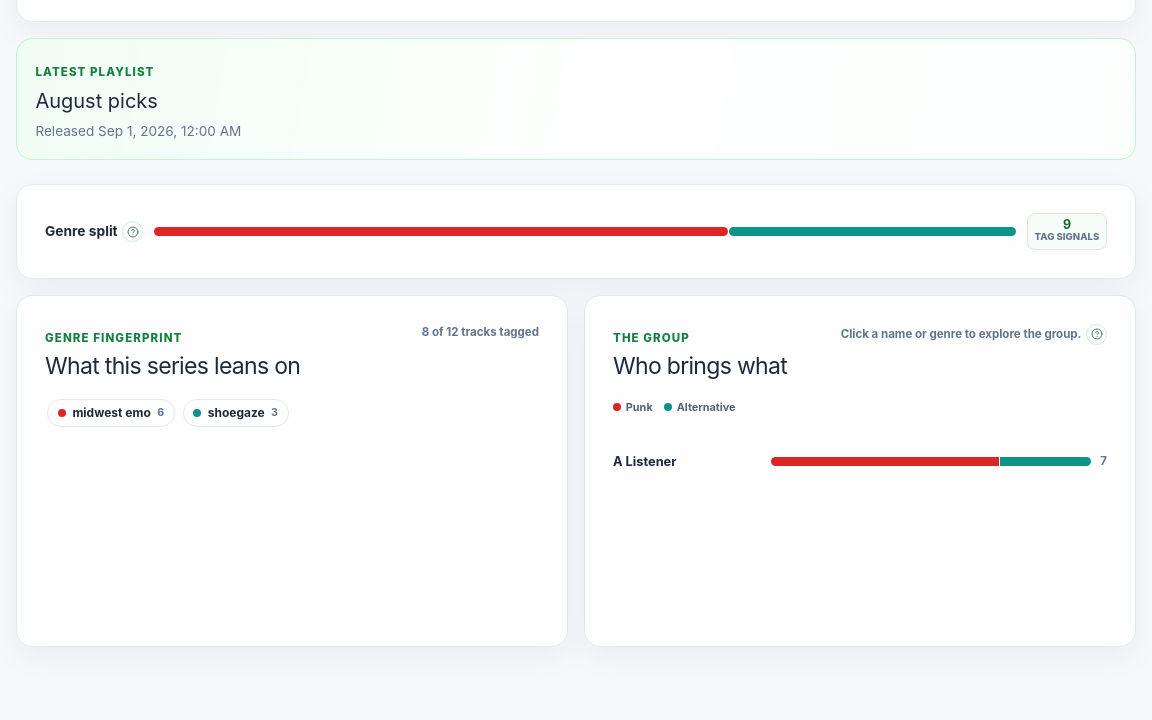
SeriesPage › shows the series fingerprint and each contributor's mix
This screenshot has width=1152, height=720.
(page scrolled)
Expected: the heading "What this series leans on" is shown, [45,353,300,380]
Expected: the text "8 of 12 tracks tagged" is shown, [422,324,539,341]
Click the button "A Listener": [687, 461] box [613,452,762,471]
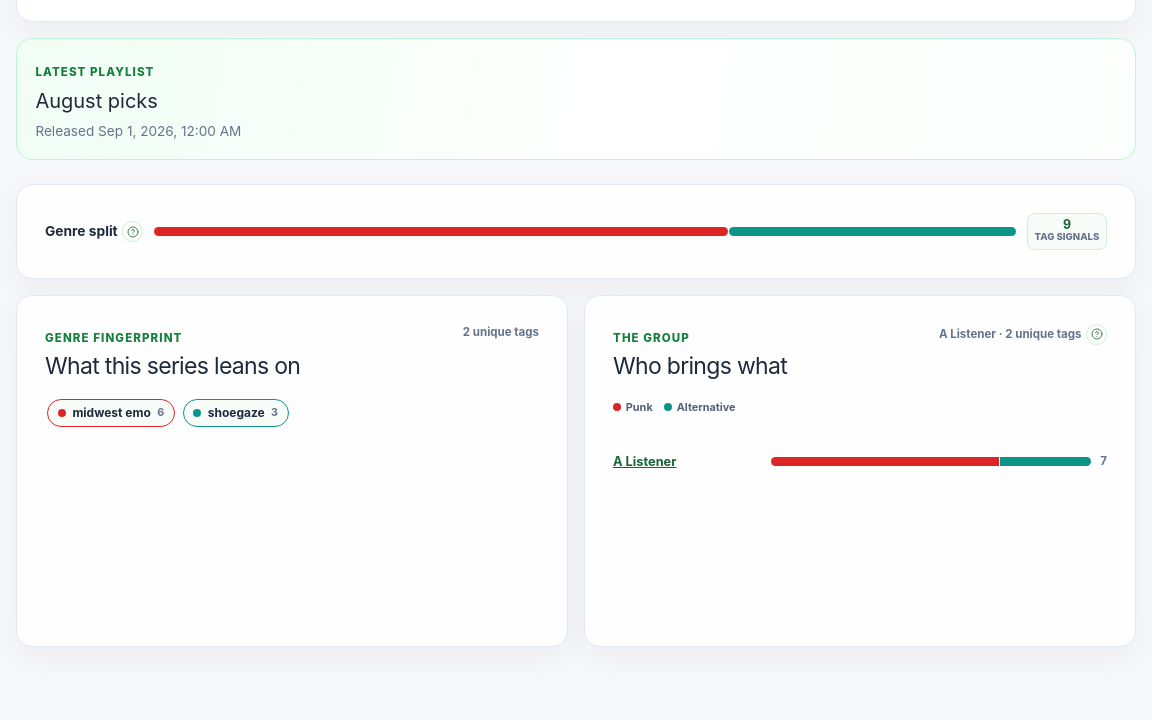
Expected: the button "midwest emo 6" is shown, [47,399,175,427]
Now the text "A Listener · 2 unique tags" is shown, box [939,324,1107,345]
